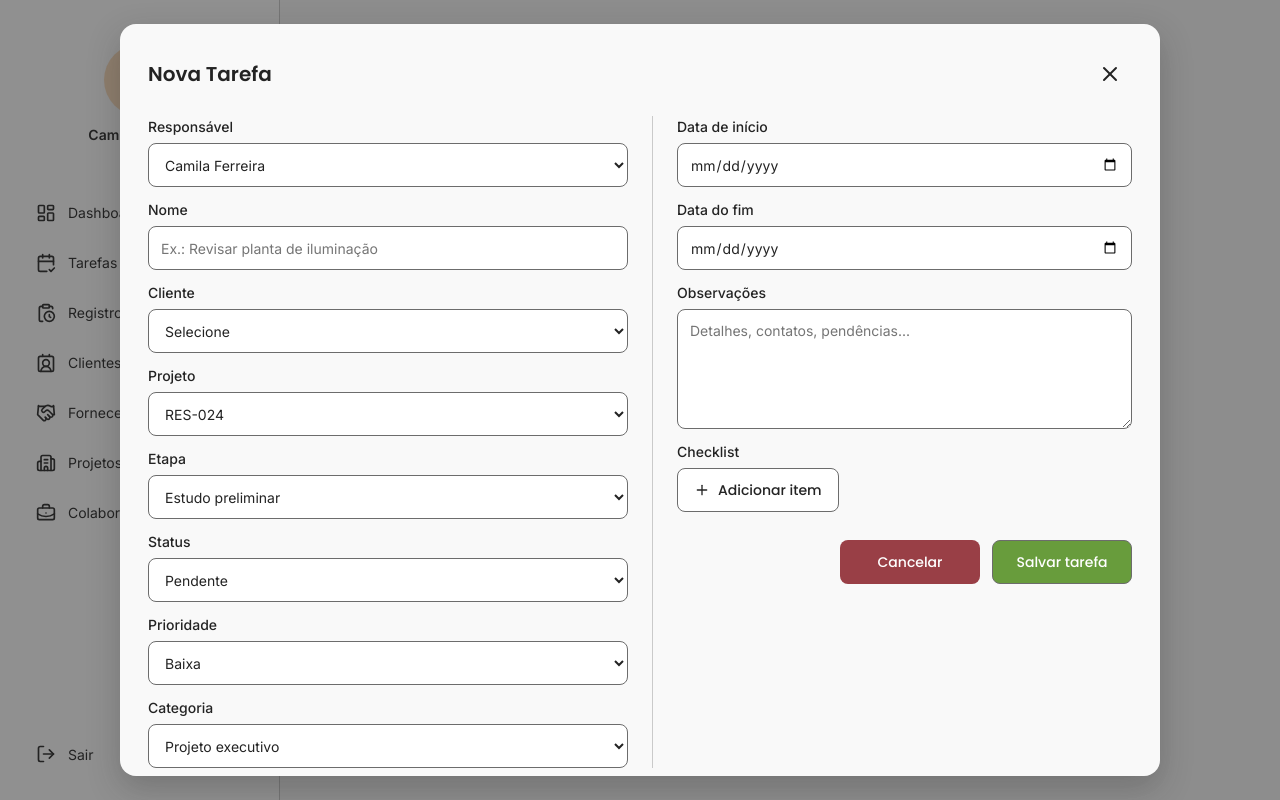
Test case: Tarefas › formulário permite adicionar itens de checklist
Click the button "Adicionar item".
click(758, 490)  # box [677, 468, 839, 512]
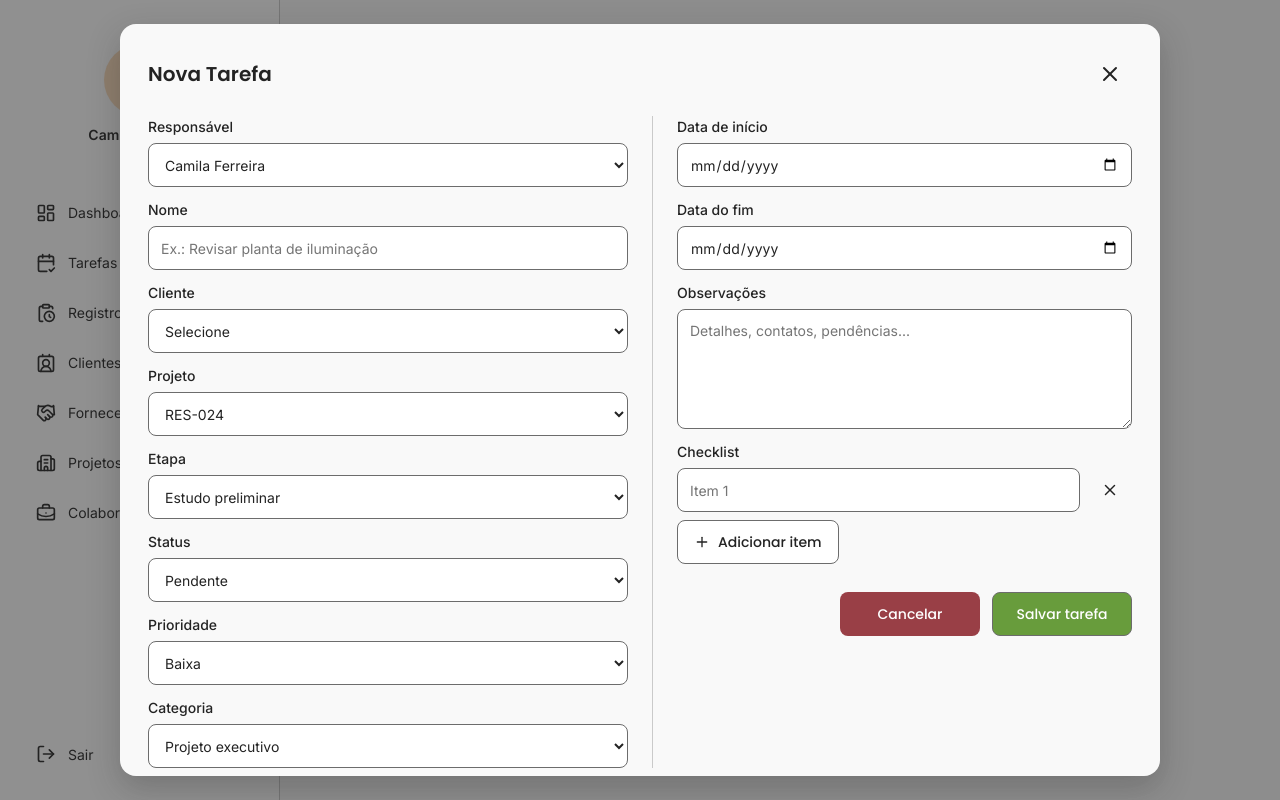
Now the field named "Item 1 do checklist" is shown, box [677, 468, 1080, 512]
